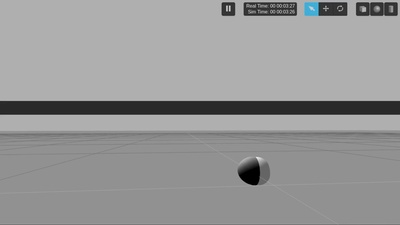mira_robot: (238, 156, 271, 186)
